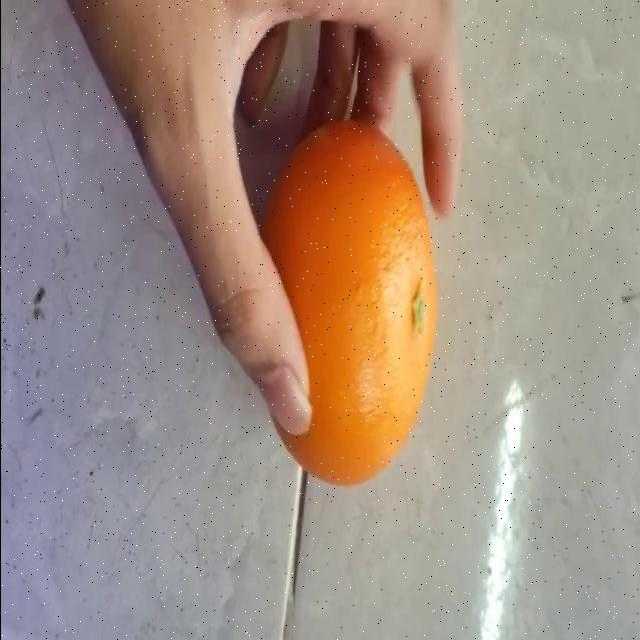Orange: (262, 118, 439, 487)
